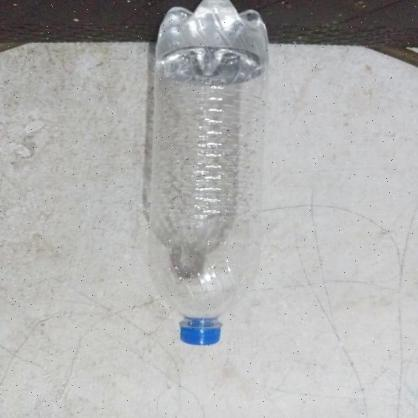bottle: (132, 0, 281, 359)
cap: (176, 315, 229, 347)
